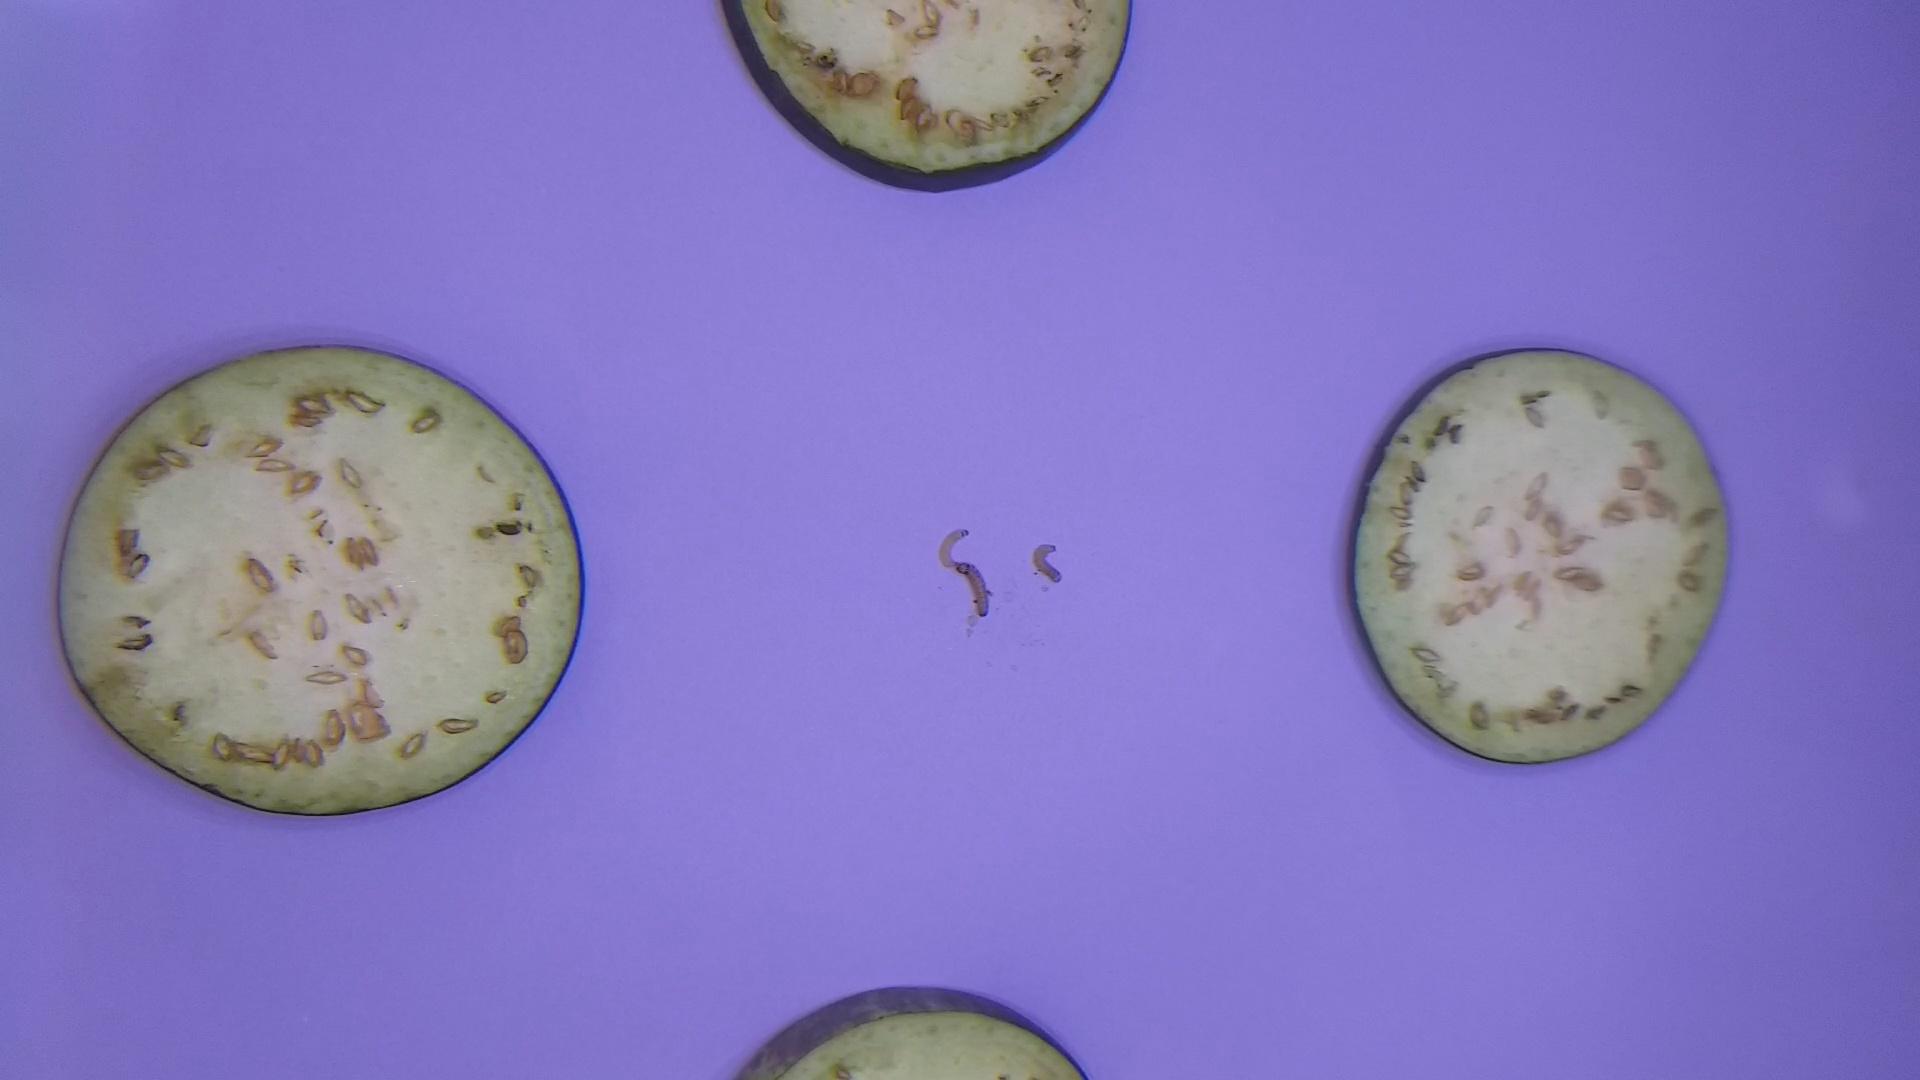efsb: (956, 556, 997, 620), (1022, 541, 1068, 592), (931, 529, 978, 575)
eggplant: (49, 334, 593, 829), (1337, 336, 1743, 771), (712, 1, 1146, 212), (727, 981, 1095, 1080)
